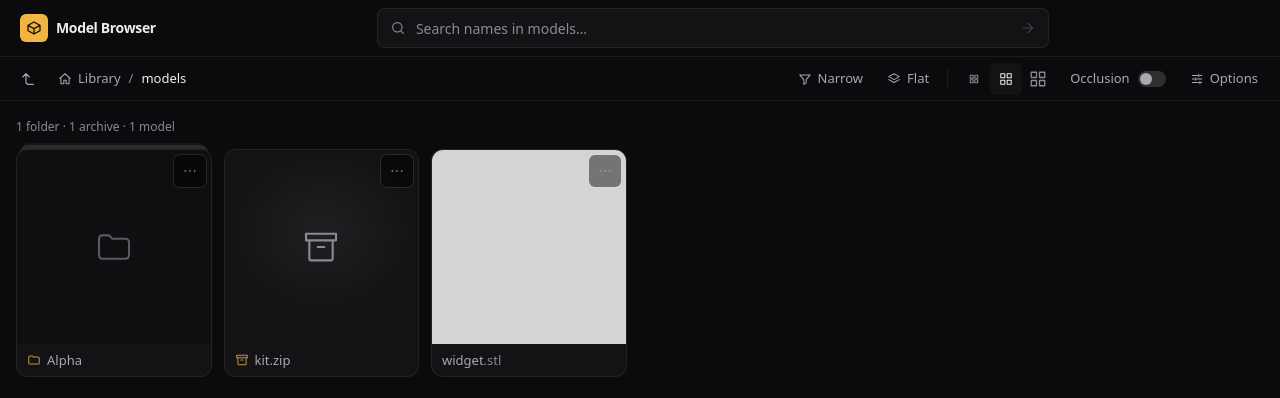
Test: the shifted secondary press › closes an open menu through its own contextmenu listener, and raises nothing in its place
Press the mouse on the button "widget.stl" at (529, 263), box x1=431 y1=149 x2=626 y2=377
Right-click the button "widget.stl" at (529, 263), box x1=431 y1=149 x2=626 y2=377
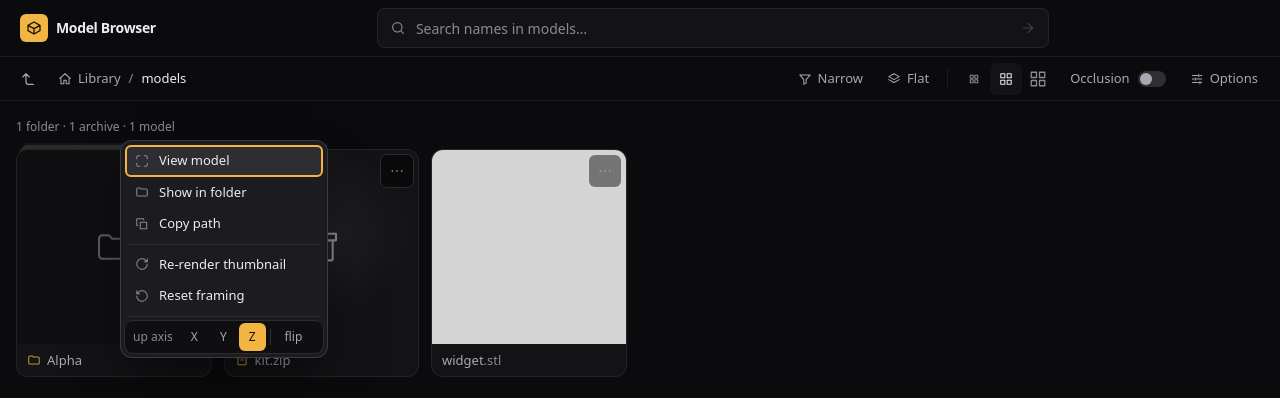
Expected: the menu is shown, x1=120 y1=140 x2=328 y2=358
Right-click the button "Alpha" at (114, 263), box x1=16 y1=149 x2=212 y2=377
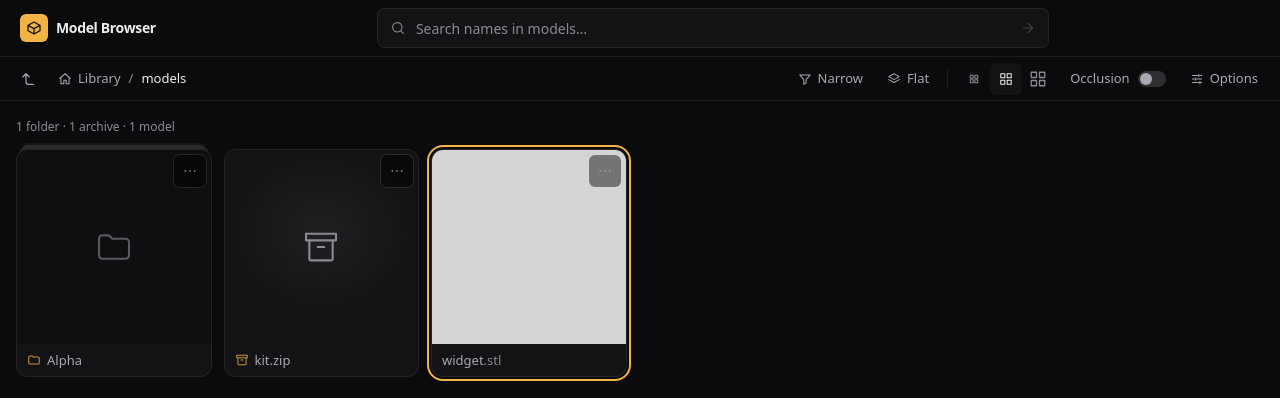
Expected: the menu is gone
